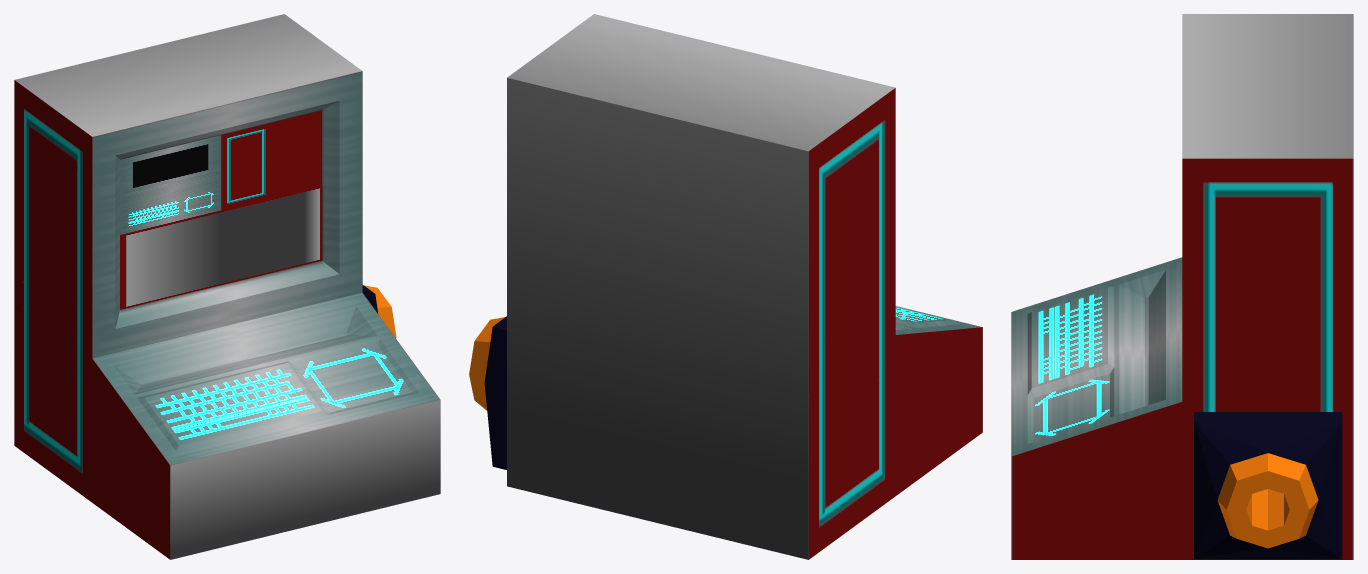
File: industrialTerminal.fbx
3 renders of one model, left to right at view 1: azimuth 30°, elevation 25°; view 2: azimuth 150°, elevation 25°; view 3: azimuth 270°, elevation 25°, orthographic. The views are drawn at different scales.
Parts seen in each view (by area): view 1: Box001, screen, socket; view 2: Box001, protrusion, socket; view 3: Box001, protrusion, socket.
Boxes of the visible parts, x1,y1,x2,y2 form: Box001: (14,14,440,559); screen: (120,110,322,309); socket: (364,285,396,337); Box001: (507,14,982,559); protrusion: (484,316,506,469); socket: (469,317,505,410); Box001: (1011,14,1353,559); protrusion: (1194,412,1342,559); socket: (1217,453,1318,548).
Bounding box in the file's own units: 36 × 38.82 × 30.
Materials: 3 (1 with a texture image).
